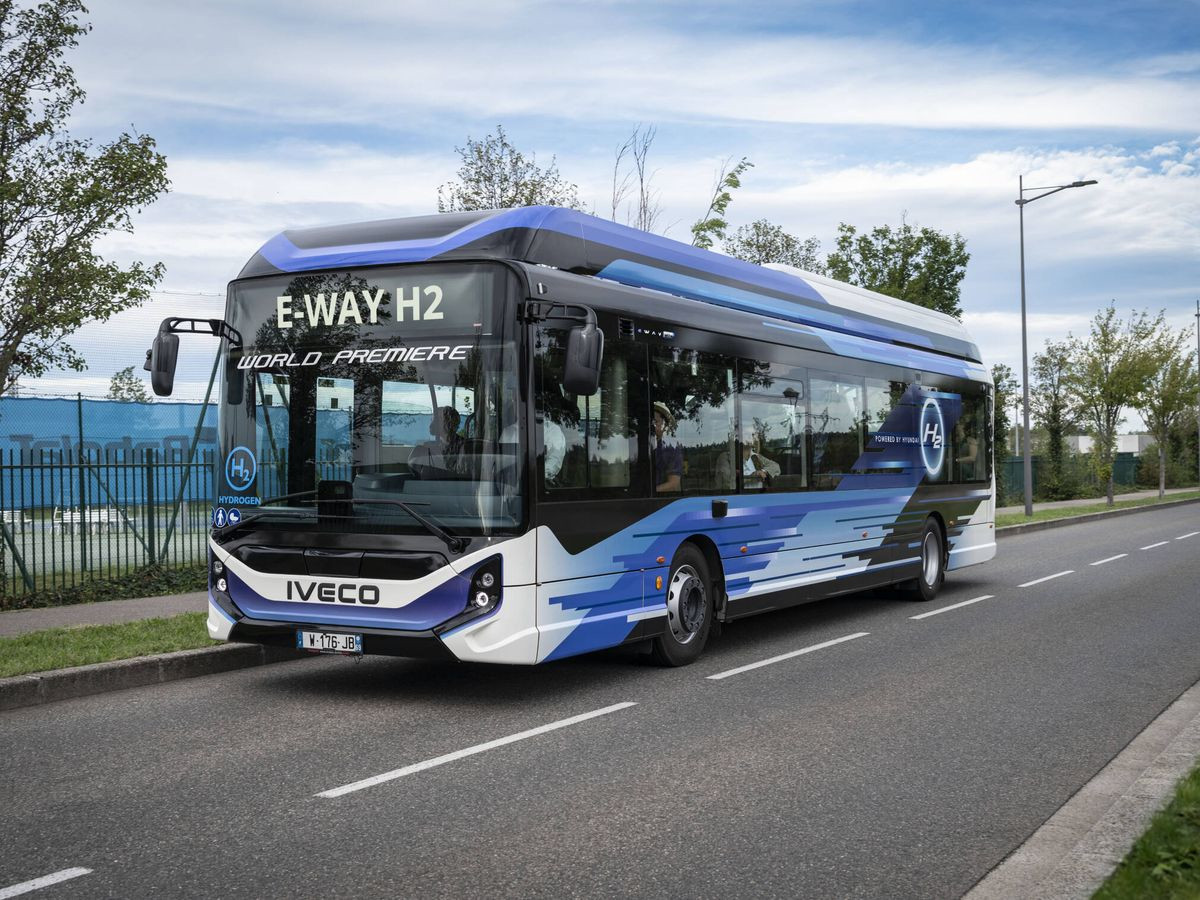autobus: (137, 200, 1002, 675)
